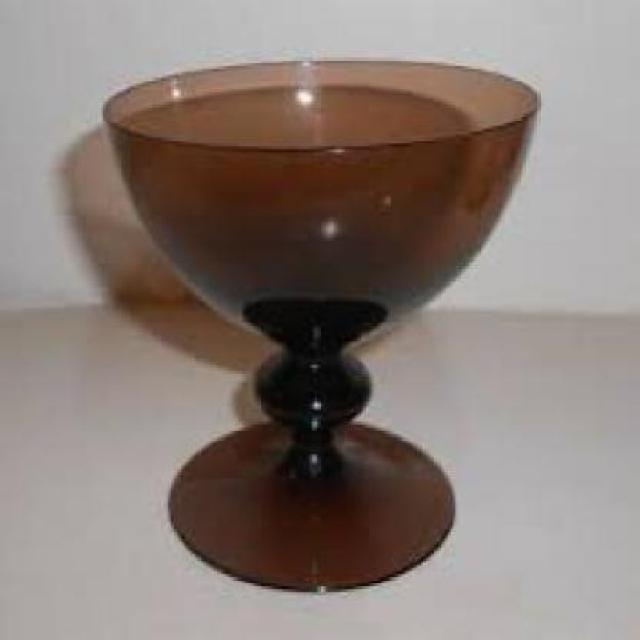kaca: (100, 57, 537, 586)
